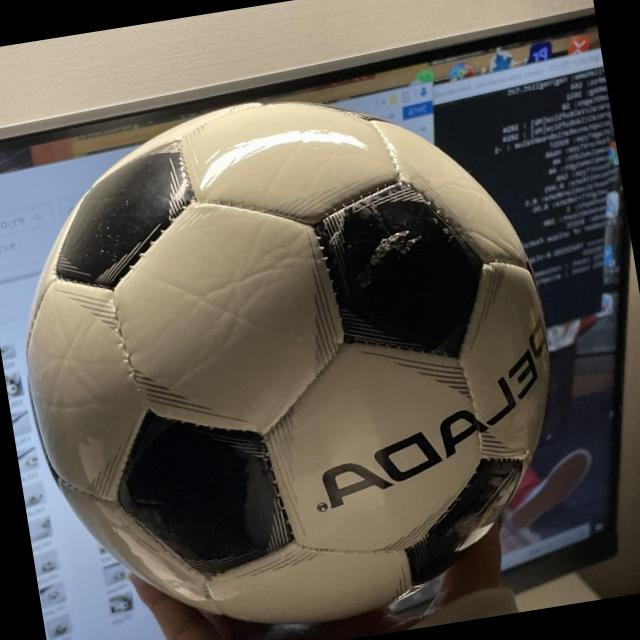Soccer Ball: (0, 63, 590, 640)
